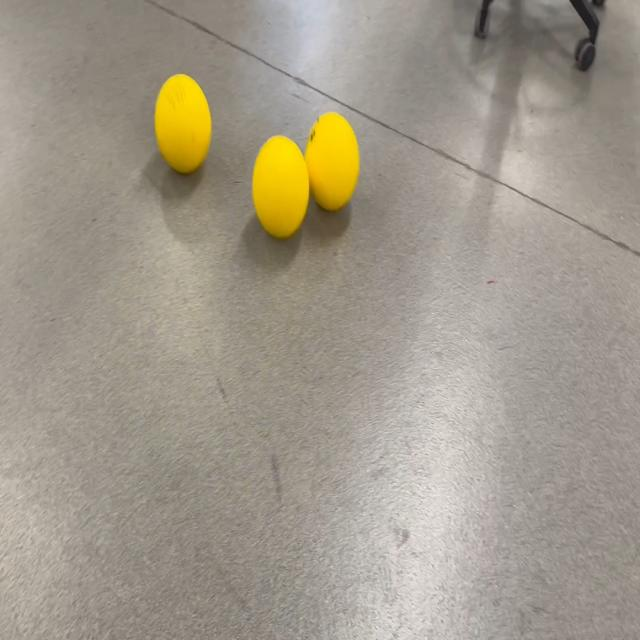Fuel: (252, 134, 310, 240), (154, 73, 212, 175), (305, 112, 360, 213)
